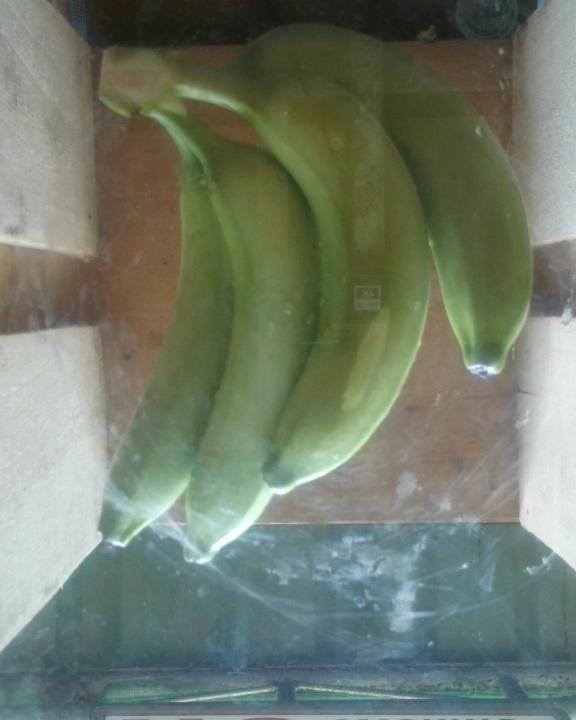SPOT: (63, 22, 545, 561)
